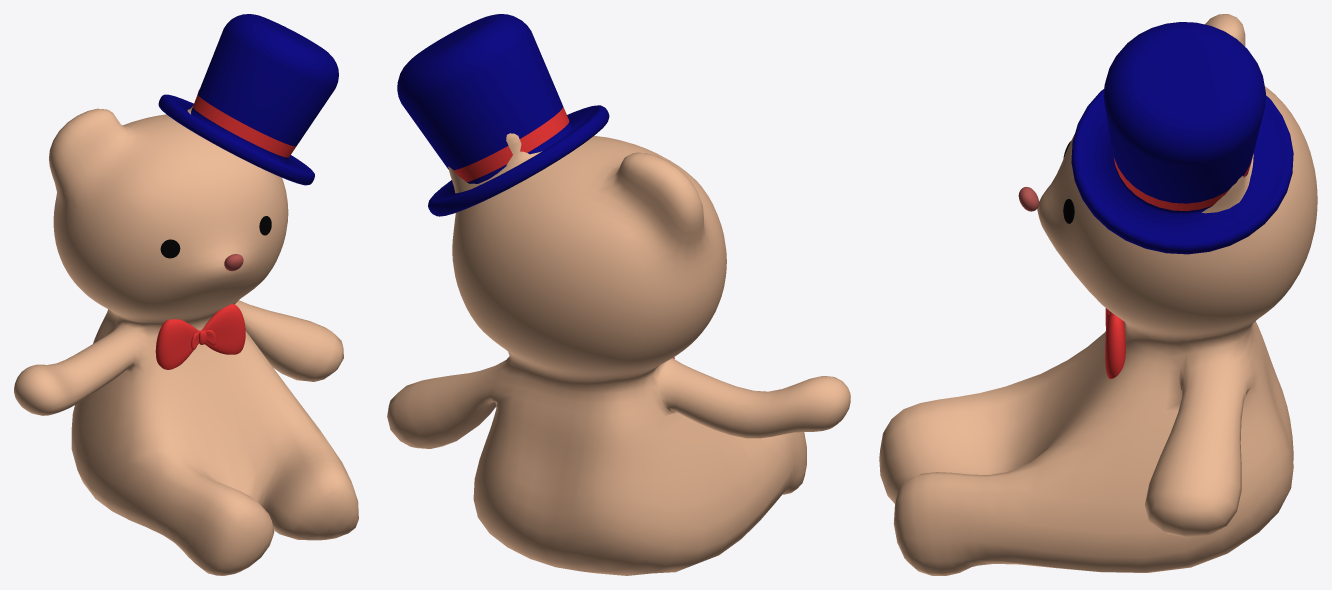
File: bear4.glb
The picture shows the model from 3 angles, left to right: view 1: azimuth 30°, elevation 25°; view 2: azimuth 150°, elevation 25°; view 3: azimuth 270°, elevation 25°; orthographic projection. The views are drawn at different scales.
Visible parts, largest first — view 1: 顔, Hat, りぼん, 円; view 2: 顔, Hat; view 3: 顔, Hat, りぼん.
Part boxes in pixels (<box>): 顔: <box>14,89,358,575</box>; Hat: <box>158,14,338,185</box>; りぼん: <box>155,303,245,369</box>; 円: <box>160,216,271,258</box>; 顔: <box>387,133,850,575</box>; Hat: <box>397,14,609,216</box>; 顔: <box>879,14,1317,575</box>; Hat: <box>1071,22,1293,254</box>; りぼん: <box>1105,308,1125,378</box>.
Bounding box in the file's own units: 3.25 × 3.86 × 2.74.
